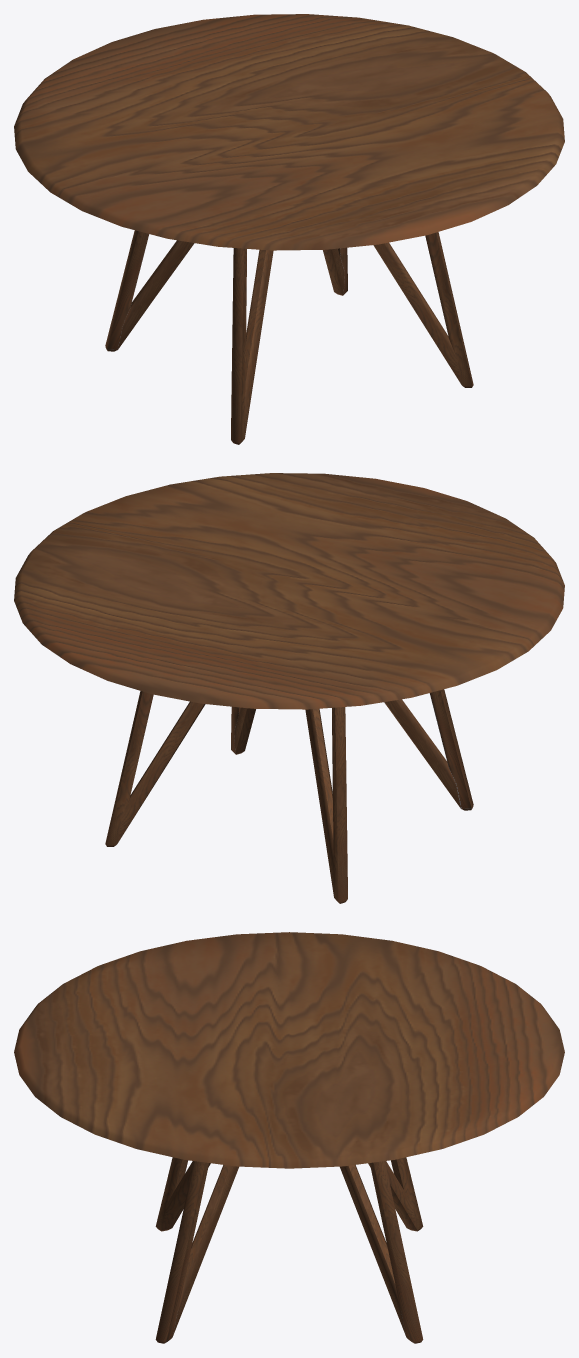
Rendered from Table5.obj.
3 views of the same model, one above another, from view 1: azimuth 30°, elevation 25°; view 2: azimuth 150°, elevation 25°; view 3: azimuth 270°, elevation 25° (orthographic).
Visible parts, largest first — view 1: Cylinder; view 2: Cylinder; view 3: Cylinder.
Boxes of the visible parts, x1,y1,x2,y2 form: Cylinder: [14, 14, 564, 444]; Cylinder: [14, 473, 564, 903]; Cylinder: [14, 932, 564, 1343].
Bounding box in the file's own units: 1.56 × 0.7551 × 1.56.
